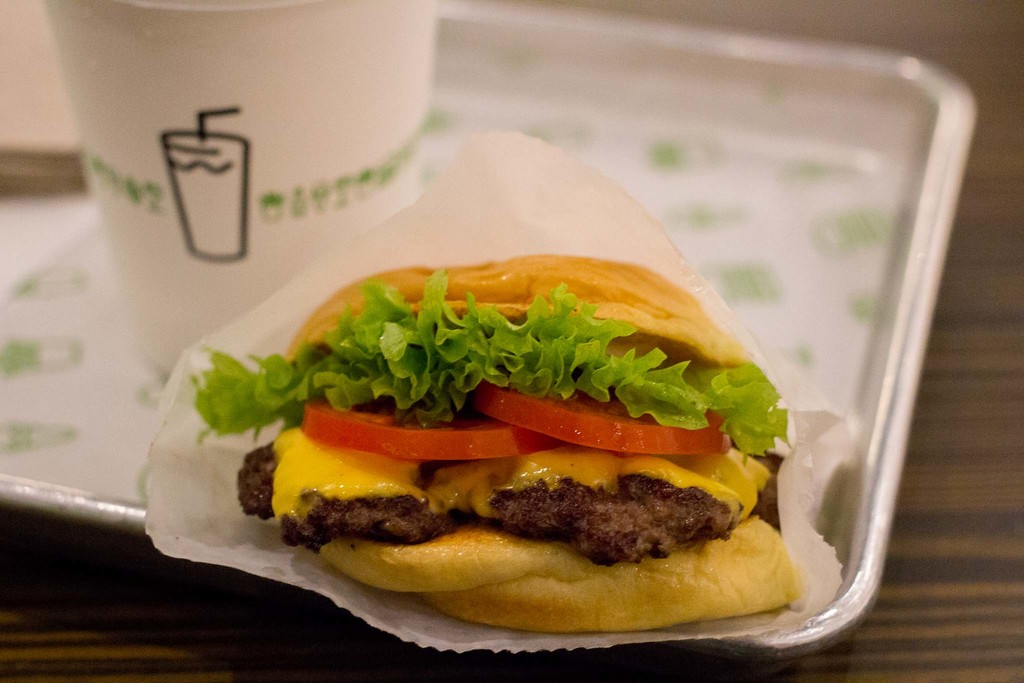Hamburger: (192, 251, 792, 631)
